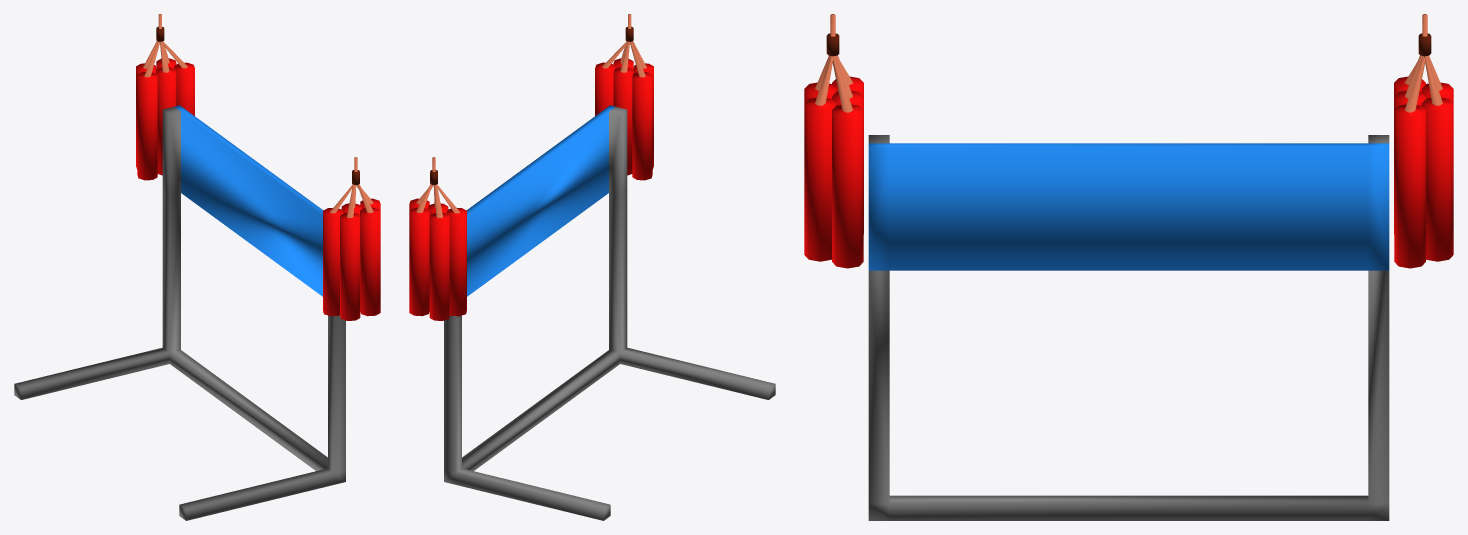
The model's file is hurdles.obj.
3 renders of one model, left to right at view 1: azimuth 30°, elevation 25°; view 2: azimuth 150°, elevation 25°; view 3: azimuth 270°, elevation 25°, orthographic. The views are drawn at different scales.
Parts seen in each view (by area): view 1: Cube.002_Cube.003, Cube.001_Cube.004; view 2: Cube.002_Cube.003, Cube.001_Cube.004; view 3: Cube.002_Cube.003, Cube.001_Cube.004.
Part boxes in pixels (left/top/right/bottom): Cube.002_Cube.003: left=14, top=105, right=345, bottom=520; Cube.001_Cube.004: left=136, top=14, right=380, bottom=320; Cube.002_Cube.003: left=444, top=105, right=775, bottom=520; Cube.001_Cube.004: left=409, top=14, right=653, bottom=320; Cube.002_Cube.003: left=868, top=135, right=1389, bottom=520; Cube.001_Cube.004: left=804, top=14, right=1453, bottom=268.
Size of the model in its own units: 1.25 by 2.14 by 2.5.
